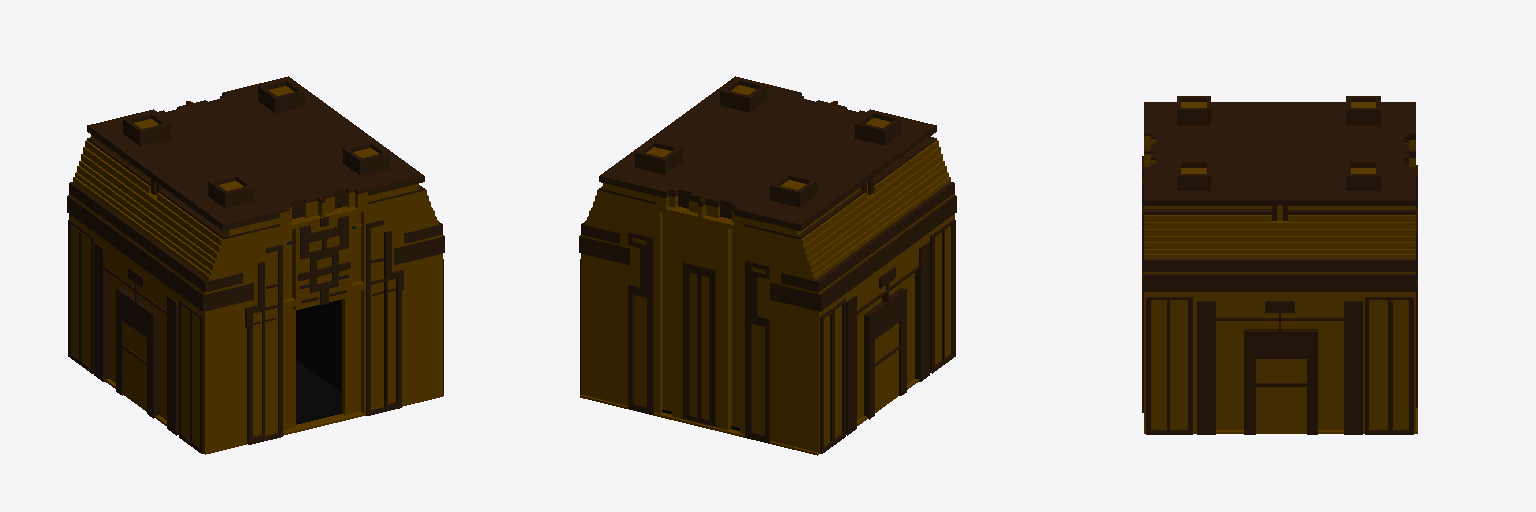
3 views of the same model, side by side, from view 1: azimuth 30°, elevation 25°; view 2: azimuth 150°, elevation 25°; view 3: azimuth 270°, elevation 25° (orthographic).
Bounding box in the file's own units: 120 × 114 × 119.
1 materials, 1 textured.